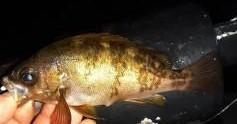fish: (1, 33, 215, 120)
